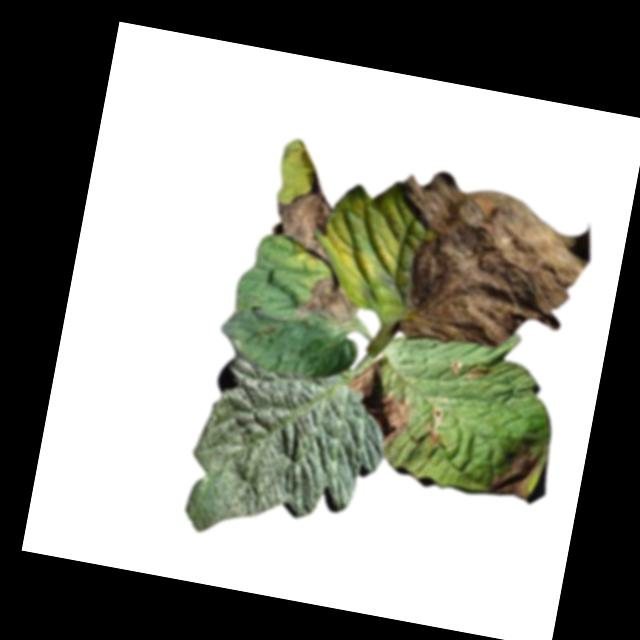Late_blight: (370, 163, 600, 368), (267, 169, 346, 265), (342, 359, 418, 450), (296, 269, 370, 329), (488, 439, 548, 503), (447, 357, 493, 386), (423, 406, 450, 452)
healthy: (179, 351, 394, 563)
